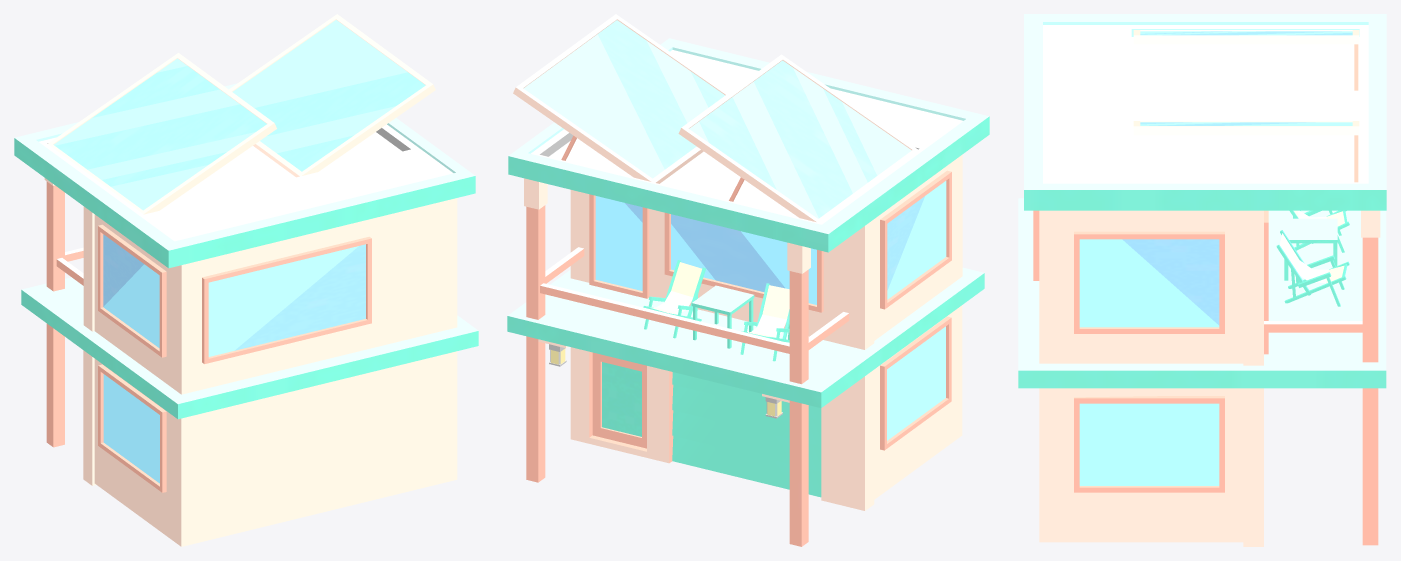
Rendered from dwelling modern.005.glb.
3 renders of one model, left to right at view 1: azimuth 30°, elevation 25°; view 2: azimuth 150°, elevation 25°; view 3: azimuth 270°, elevation 25°, orthographic. The views are drawn at different scales.
Visible parts, largest first — view 1: dwelling modern.005(Clone); view 2: dwelling modern.005(Clone); view 3: dwelling modern.005(Clone).
Boxes of the visible parts, <box> form: dwelling modern.005(Clone): <box>14,14,478,546</box>; dwelling modern.005(Clone): <box>507,14,989,546</box>; dwelling modern.005(Clone): <box>1018,14,1386,546</box>.
Size of the model in its own units: 6.54 by 7.28 by 5.66.
1 material, 1 textured.
